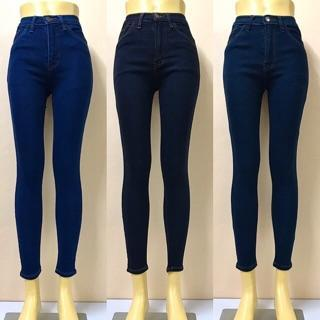pants: (103, 13, 209, 274), (2, 13, 95, 284), (219, 14, 311, 277)
